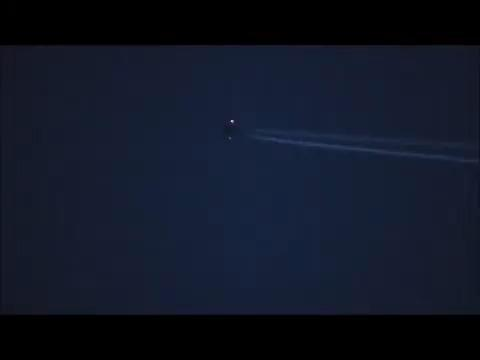Plane: (192, 110, 477, 174)
